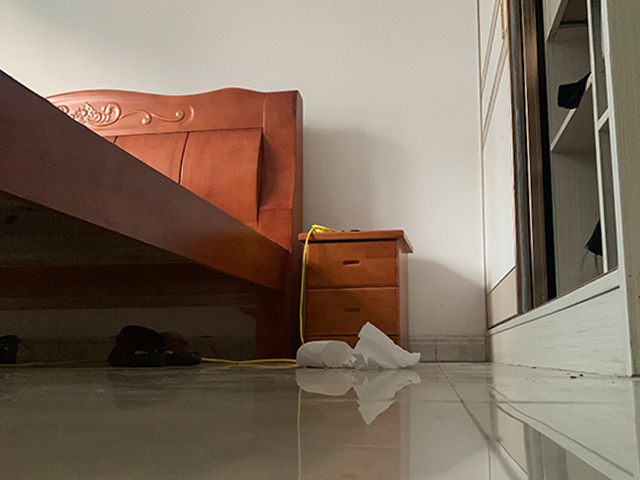bed: (1, 69, 303, 363)
cabinet: (475, 1, 640, 378), (298, 226, 414, 353)
wire: (202, 223, 333, 365)
